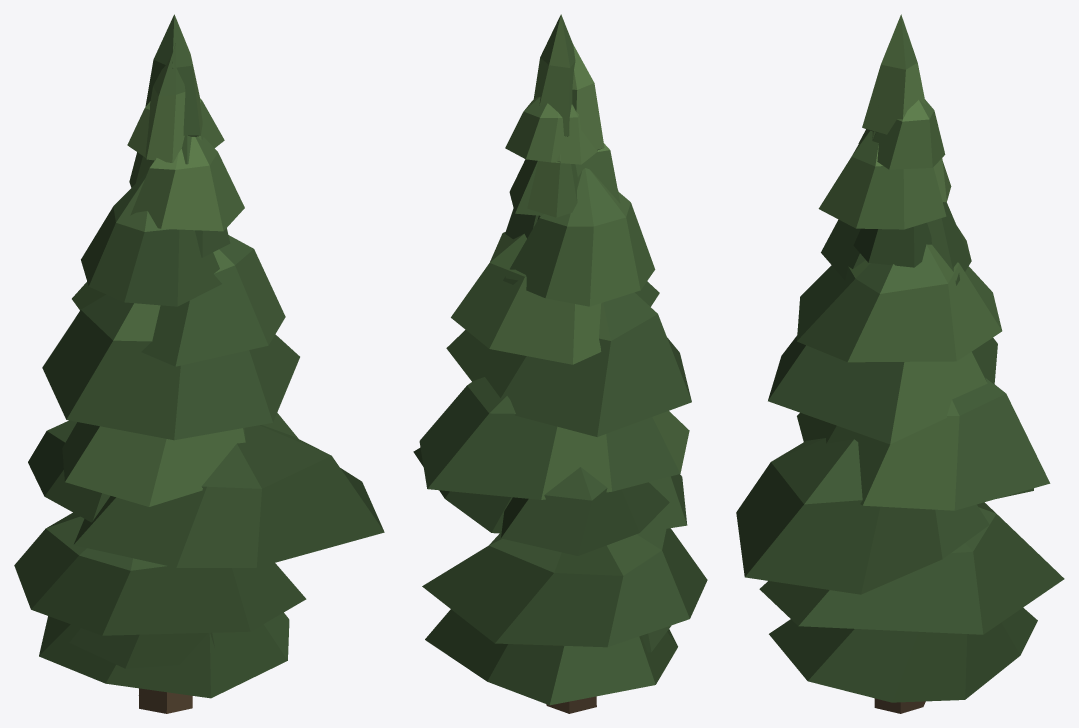
The model's file is tree-conifer-a.glb.
3 renders of one model, left to right at view 1: azimuth 30°, elevation 25°; view 2: azimuth 150°, elevation 25°; view 3: azimuth 270°, elevation 25°, orthographic.
Visible parts, largest first — view 1: Tree_Conifer_A; view 2: Tree_Conifer_A; view 3: Tree_Conifer_A.
Boxes of the visible parts, x1,y1,x2,y2 form: Tree_Conifer_A: (14,14,384,713); Tree_Conifer_A: (413,14,707,713); Tree_Conifer_A: (736,14,1064,713).
Bounding box in the file's own units: 4.23 × 9.12 × 3.93.
1 material, 1 textured.
